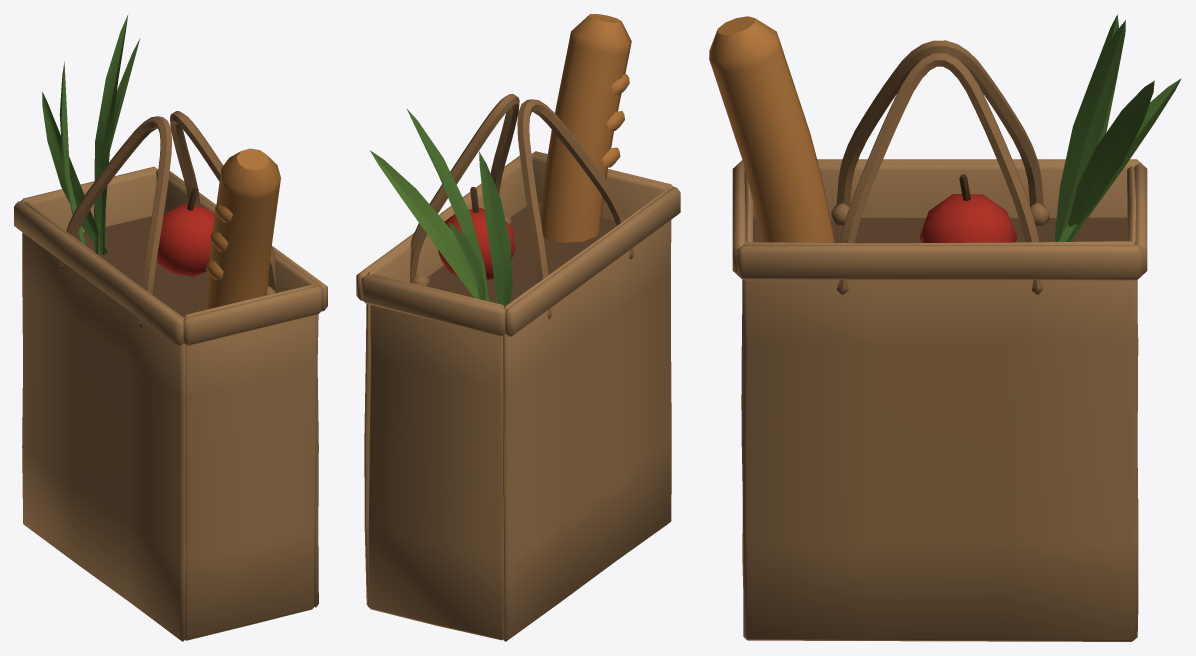
The model's file is shopping_bag_paper.glb.
3 renders of one model, left to right at view 1: azimuth 30°, elevation 25°; view 2: azimuth 150°, elevation 25°; view 3: azimuth 270°, elevation 25°, orthographic. The views are drawn at different scales.
Parts seen in each view (by area): view 1: Sammel Stoff, Sammel Pflanze, Sammel Glatt; view 2: Sammel Stoff, Sammel Pflanze, Sammel Glatt; view 3: Sammel Stoff, Sammel Pflanze, Sammel Glatt.
Boxes of the visible parts, x1,y1,x2,y2 form: Sammel Stoff: (14,111,327,641); Sammel Pflanze: (42,14,140,255); Sammel Glatt: (156,203,214,276); Sammel Stoff: (356,14,680,641); Sammel Pflanze: (370,109,512,306); Sammel Glatt: (438,208,515,280); Sammel Stoff: (709,16,1147,641); Sammel Pflanze: (1054,14,1181,241); Sammel Glatt: (919,194,1016,242).
Size of the model in its own units: 0.0938 by 0.2869 by 0.2039.
